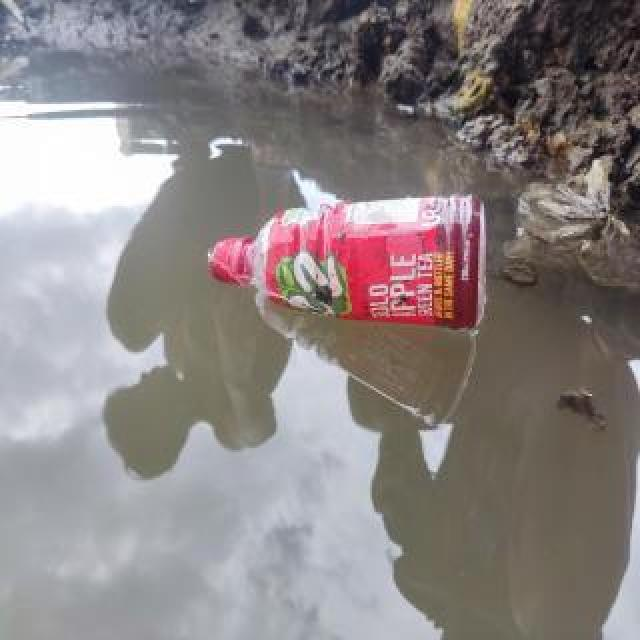bottle: (201, 186, 493, 336)
